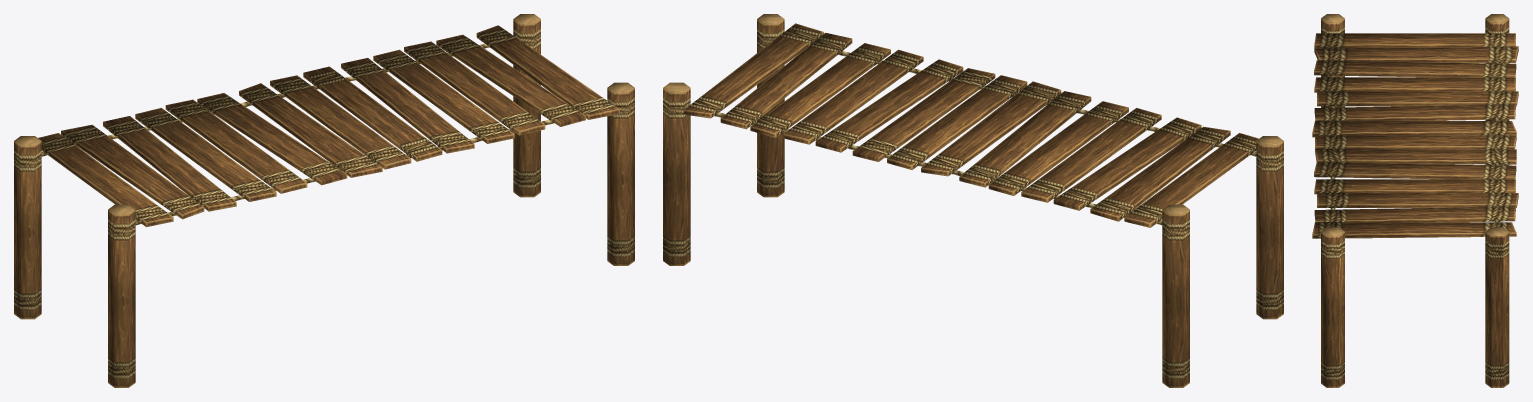
Rendered from WoodenBridge01.FBX.
3 views of the same model, side by side, from view 1: azimuth 30°, elevation 25°; view 2: azimuth 150°, elevation 25°; view 3: azimuth 270°, elevation 25° (orthographic). The views are drawn at different scales.
Parts seen in each view (by area): view 1: WoddenBridge; view 2: WoddenBridge; view 3: WoddenBridge.
Part boxes in pixels (bbox=[...]): WoddenBridge: bbox=[14, 14, 634, 387]; WoddenBridge: bbox=[663, 14, 1283, 387]; WoddenBridge: bbox=[1312, 14, 1518, 387].
Size of the model in its own units: 16 by 6.28 by 5.09.
